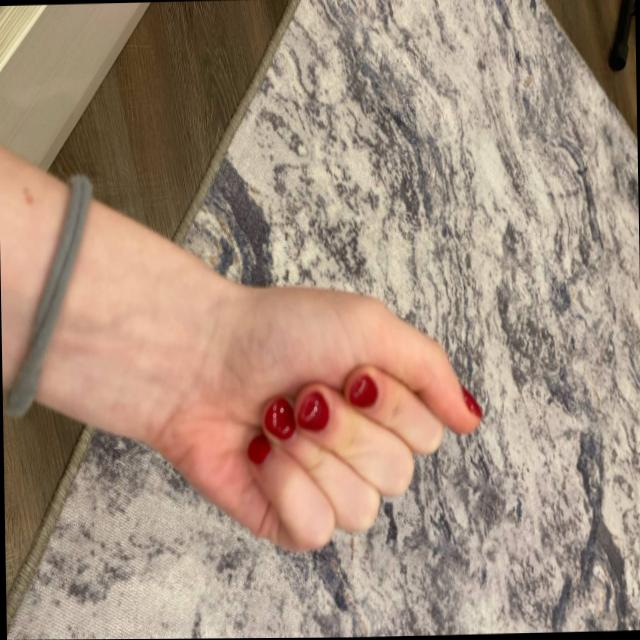a: (219, 252, 500, 614)
